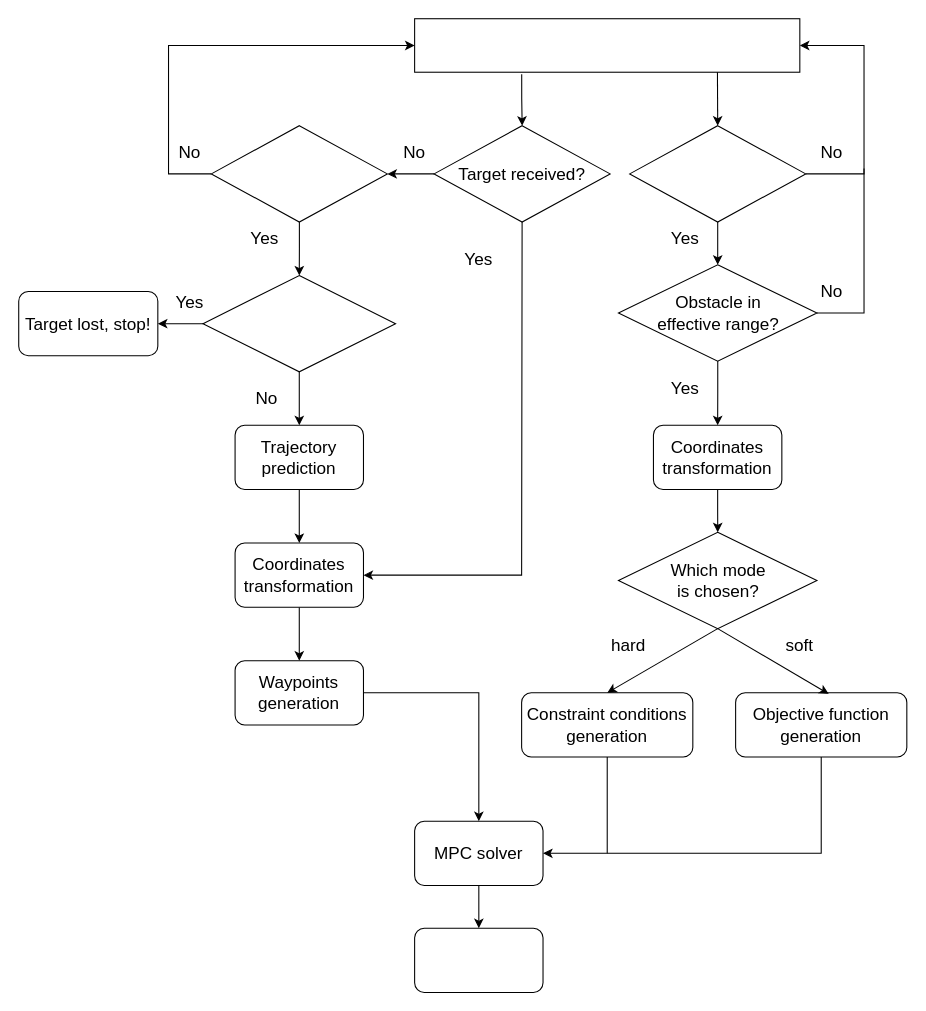
The diagram is 926 pixels wide and 1011 high, and some of its shapes have lost their labels. The centre of each missing label's shape, as x and y in pixels:
"Controller" goes at point 478,959.
"Deep SORT" goes at point 607,45.
"lost age > max_age?" goes at point 299,323.
"Obstacle received?" goes at point 717,173.
"Received before?" goes at point 298,173.
